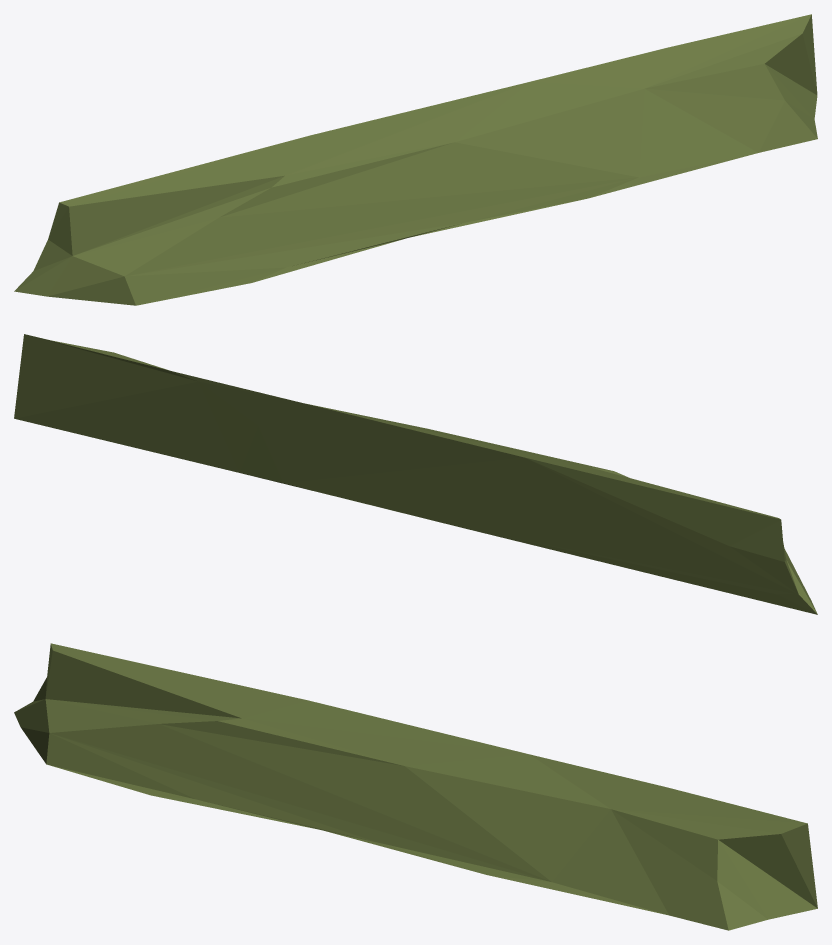
File: ground_46.fbx
3 renders of one model, top to bottom at view 1: azimuth 30°, elevation 25°; view 2: azimuth 150°, elevation 25°; view 3: azimuth 330°, elevation 25°, orthographic.
Visible parts, largest first — view 1: ground_46; view 2: ground_46; view 3: ground_46.
Boxes of the visible parts, left/top/right/bottom form: ground_46: left=14, top=14, right=817, bottom=305; ground_46: left=14, top=334, right=817, bottom=614; ground_46: left=14, top=643, right=817, bottom=930.
Bounding box in the file's own units: 10.22 × 1.04 × 1.12.
